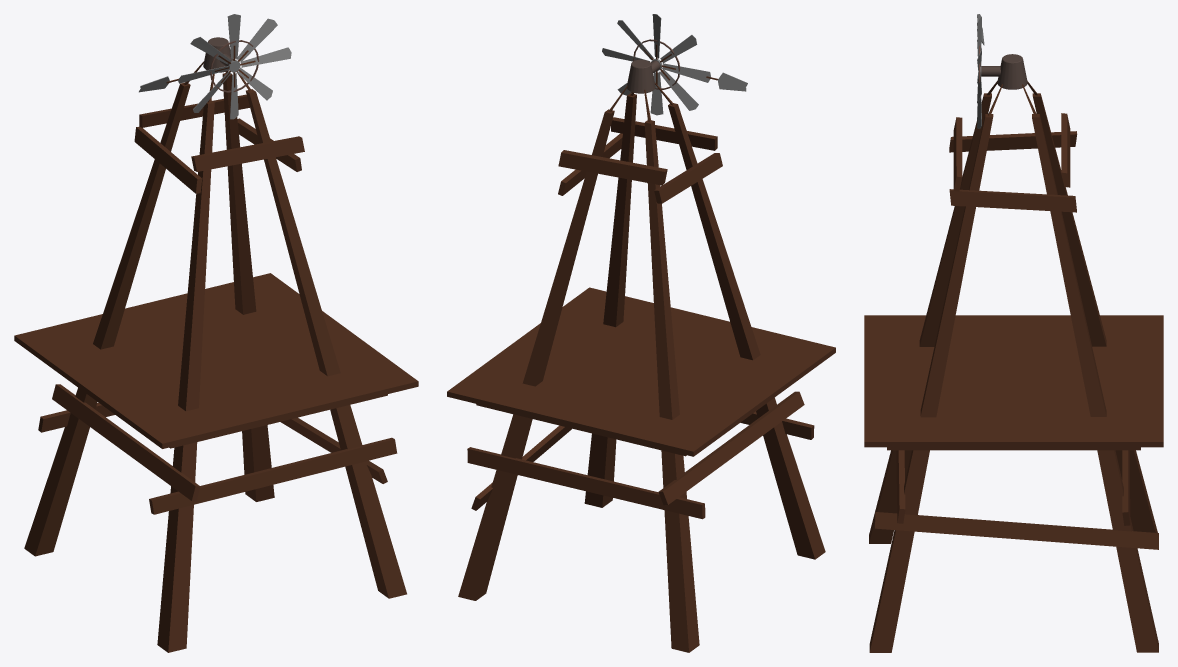
Rendered from Windmill.fbx.
3 views of the same model, side by side, from view 1: azimuth 30°, elevation 25°; view 2: azimuth 150°, elevation 25°; view 3: azimuth 270°, elevation 25° (orthographic). The views are drawn at different scales.
Parts seen in each view (by area): view 1: polySurface714; view 2: polySurface714; view 3: polySurface714.
Boxes of the visible parts, x1=… form: polySurface714: x1=14, y1=14, x2=418, y2=652; polySurface714: x1=447, y1=14, x2=835, y2=652; polySurface714: x1=864, y1=14, x2=1163, y2=652.
Bounding box in the file's own units: 16.78 × 35.63 × 16.78.
